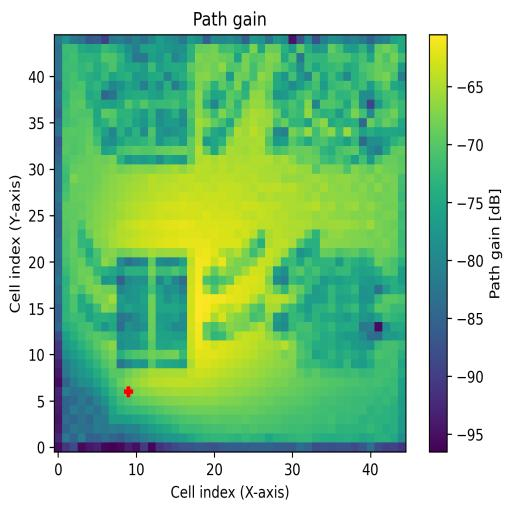Concrete: (296, 52, 374, 166)
Glass: (118, 52, 196, 166)
Metal: (296, 249, 376, 368)
Wood: (117, 256, 187, 369)
